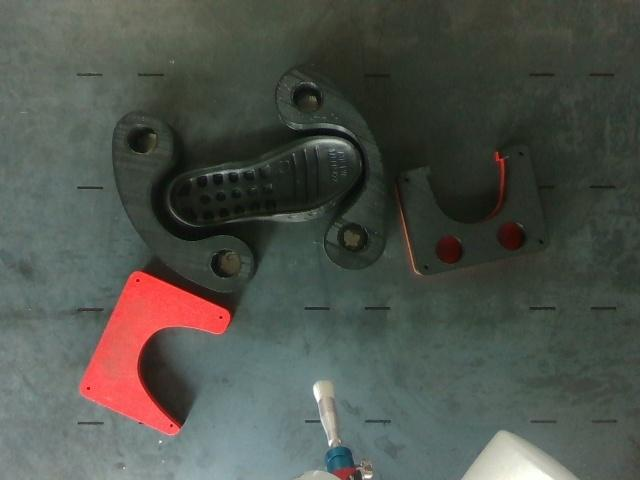shoes: (169, 140, 360, 224)
